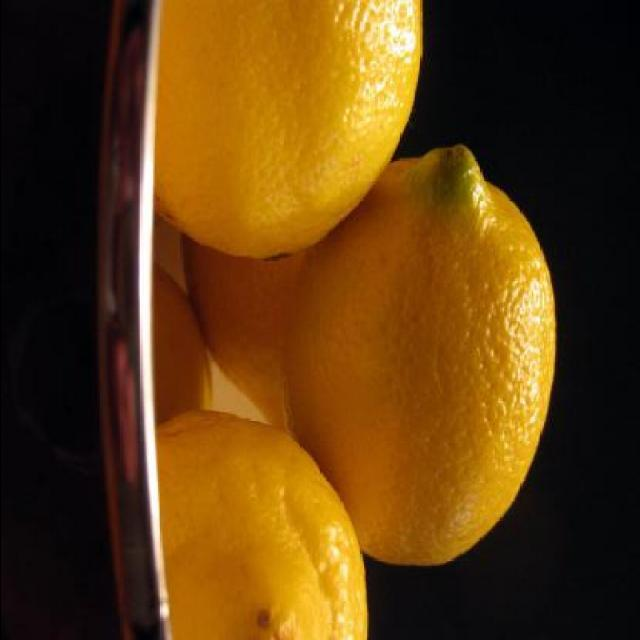Lemon: (148, 0, 559, 638), (150, 1, 424, 264)
